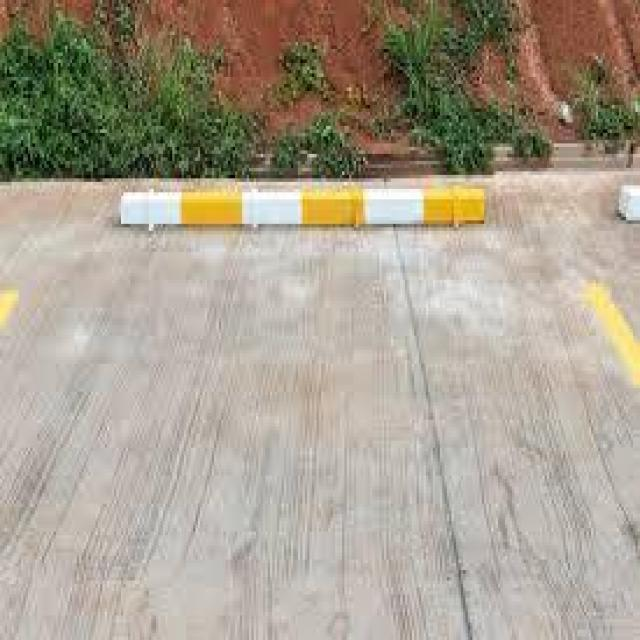bump: (114, 178, 496, 232)
